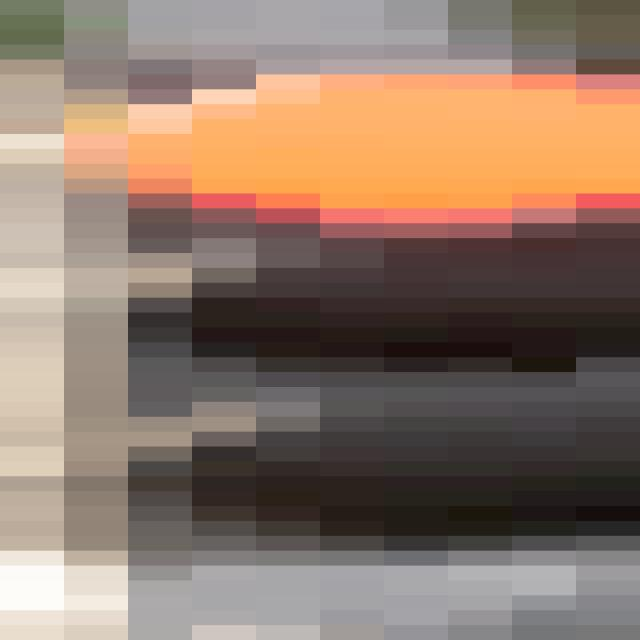red_light: (0, 30, 640, 559)
